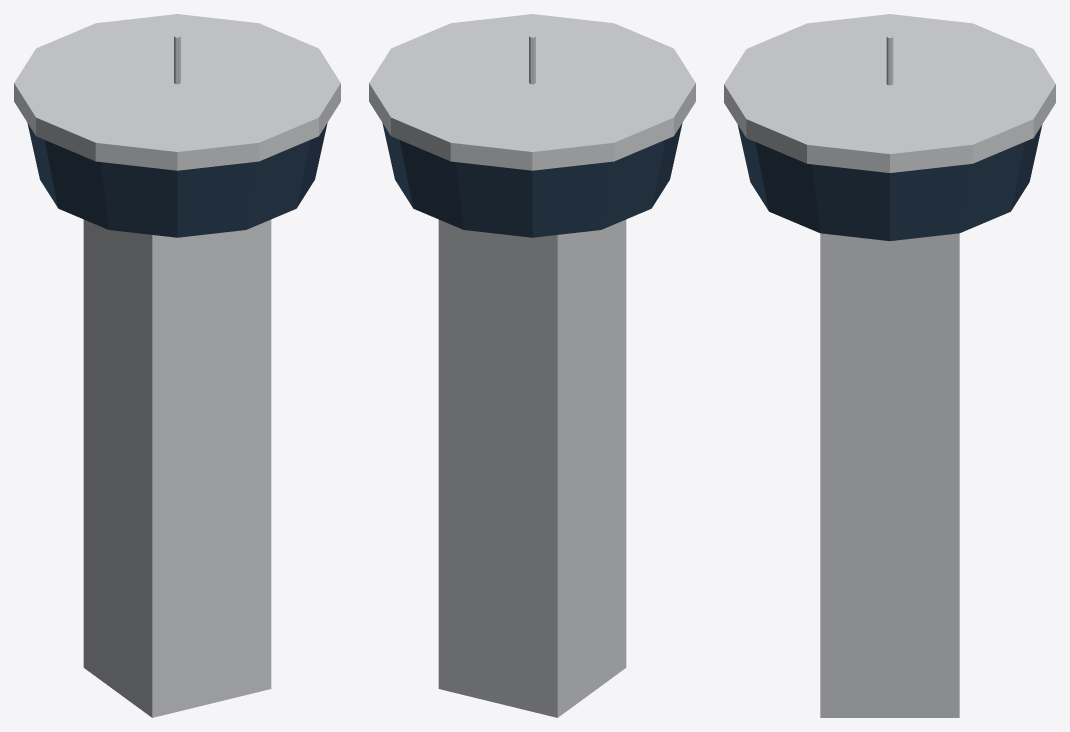
Rendered from torre-control.glb.
The picture shows the model from 3 angles, left to right: view 1: azimuth 30°, elevation 25°; view 2: azimuth 150°, elevation 25°; view 3: azimuth 270°, elevation 25°; orthographic projection.
Visible parts, largest first — view 1: torre-control; view 2: torre-control; view 3: torre-control.
Part boxes in pixels (box(x1,y1,x2,y2)): torre-control: box(14, 14, 340, 717); torre-control: box(369, 14, 695, 717); torre-control: box(724, 14, 1055, 717).
Size of the model in its own units: 19 by 41.2 by 19.
